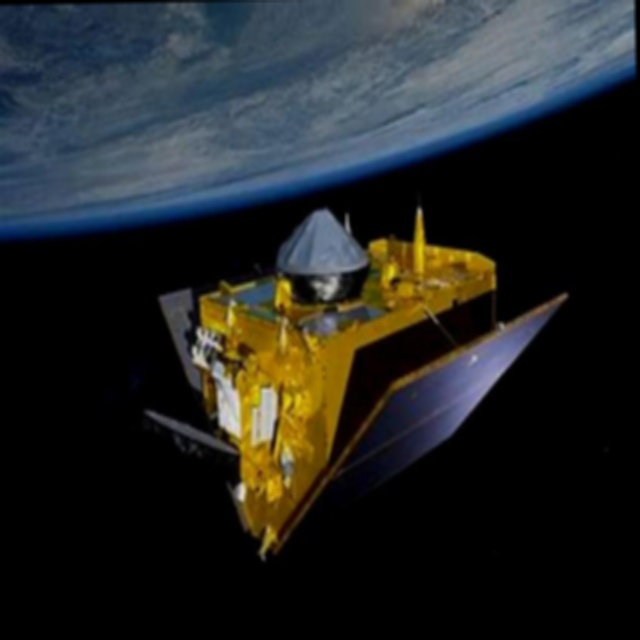satellite: (105, 180, 584, 566)
